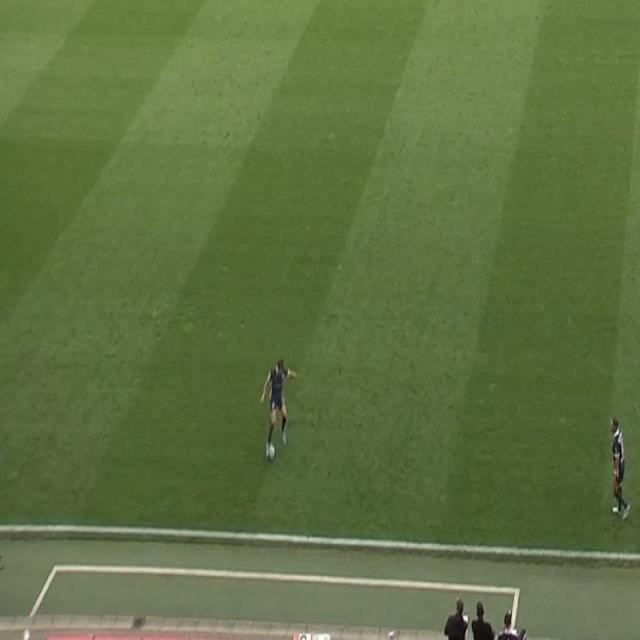ball: (264, 443, 276, 465)
